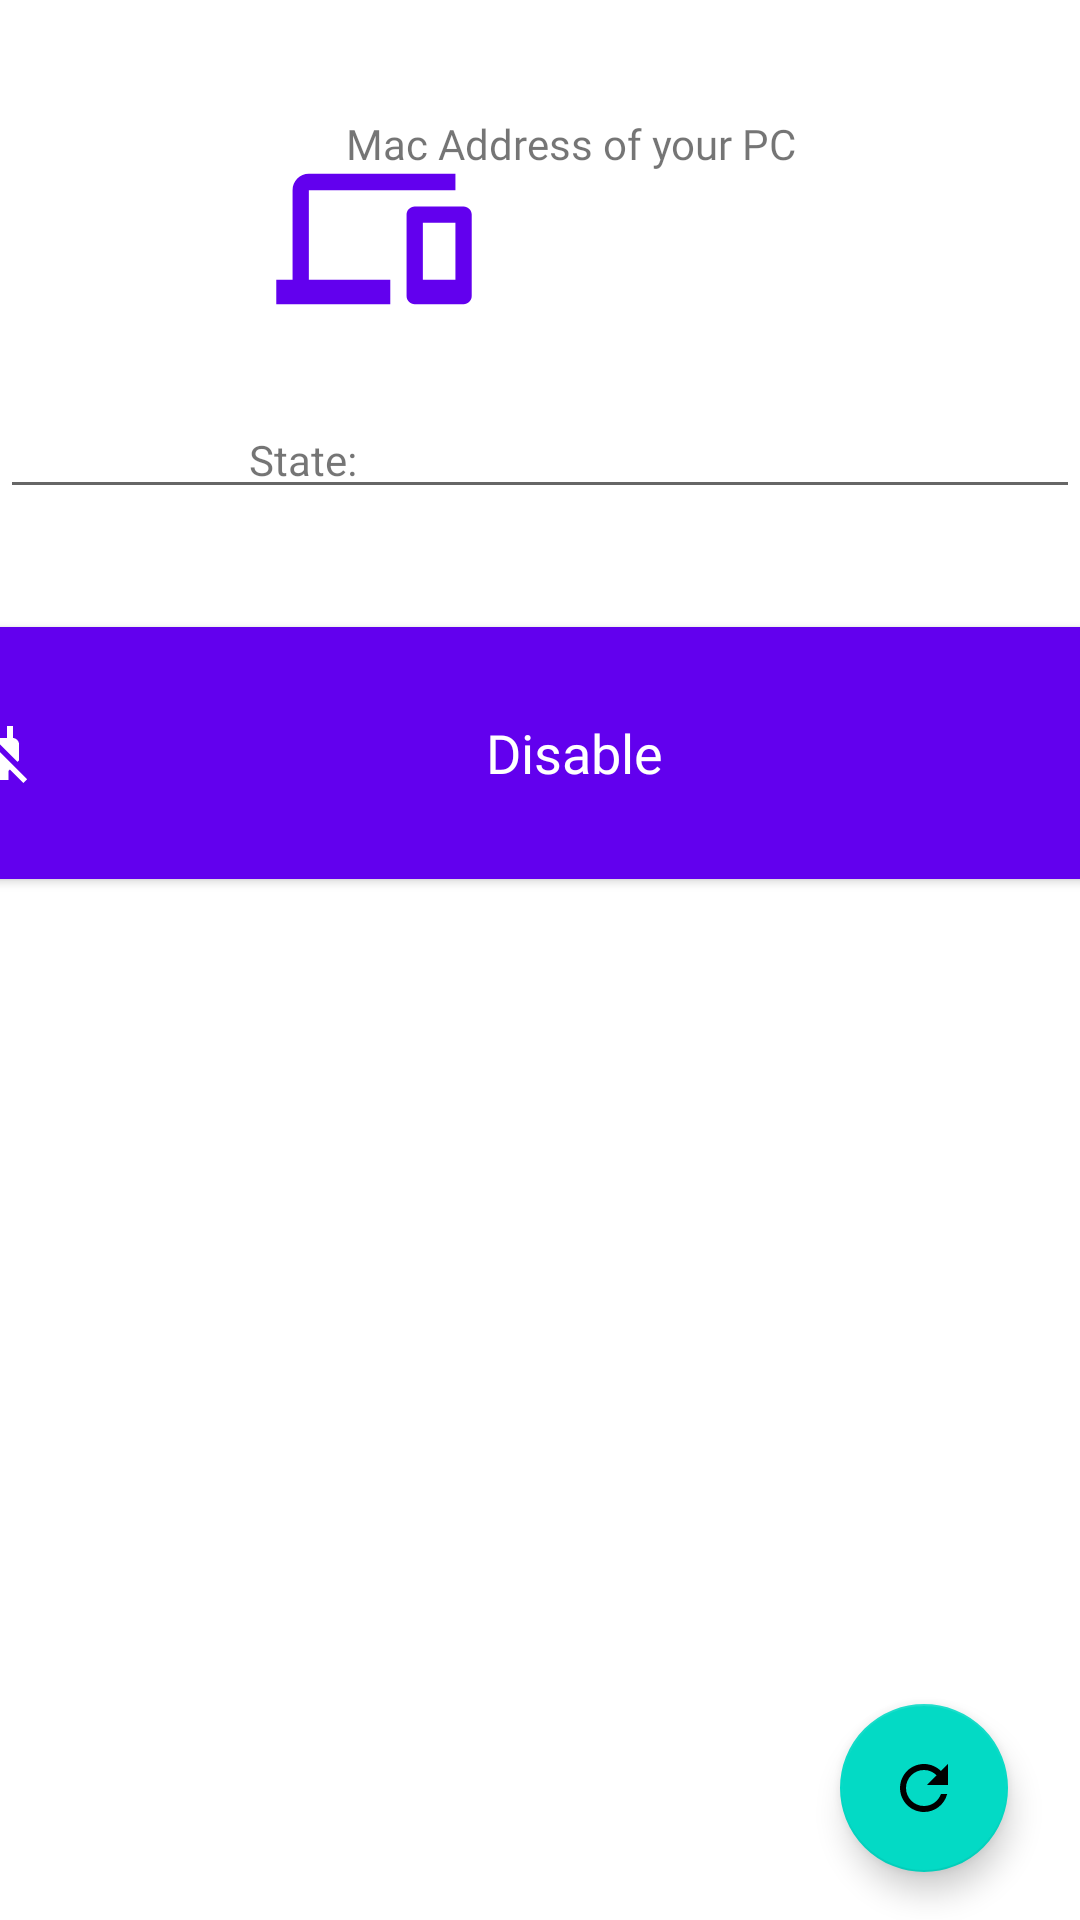

Point at icon controls on the screen. Image size 1080 × 1920, points as (x=x, y=y).
refresh: (x=924, y=1788)
